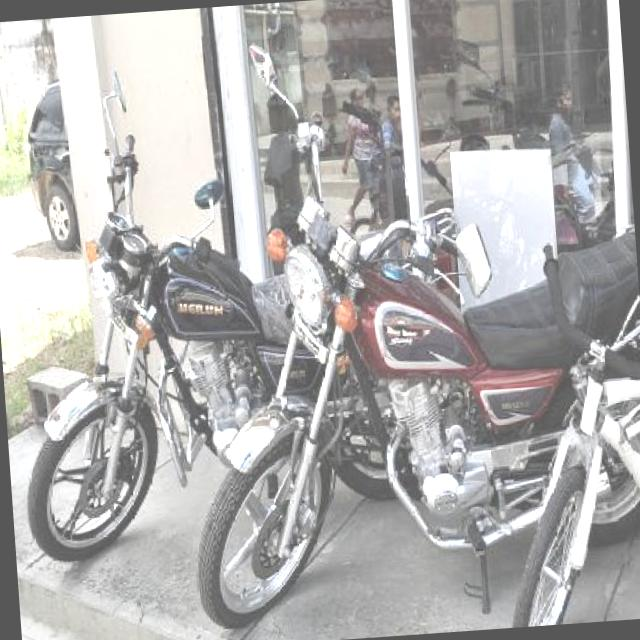Person: (542, 74, 603, 224), (255, 91, 306, 246), (331, 84, 384, 228), (366, 91, 402, 150)
